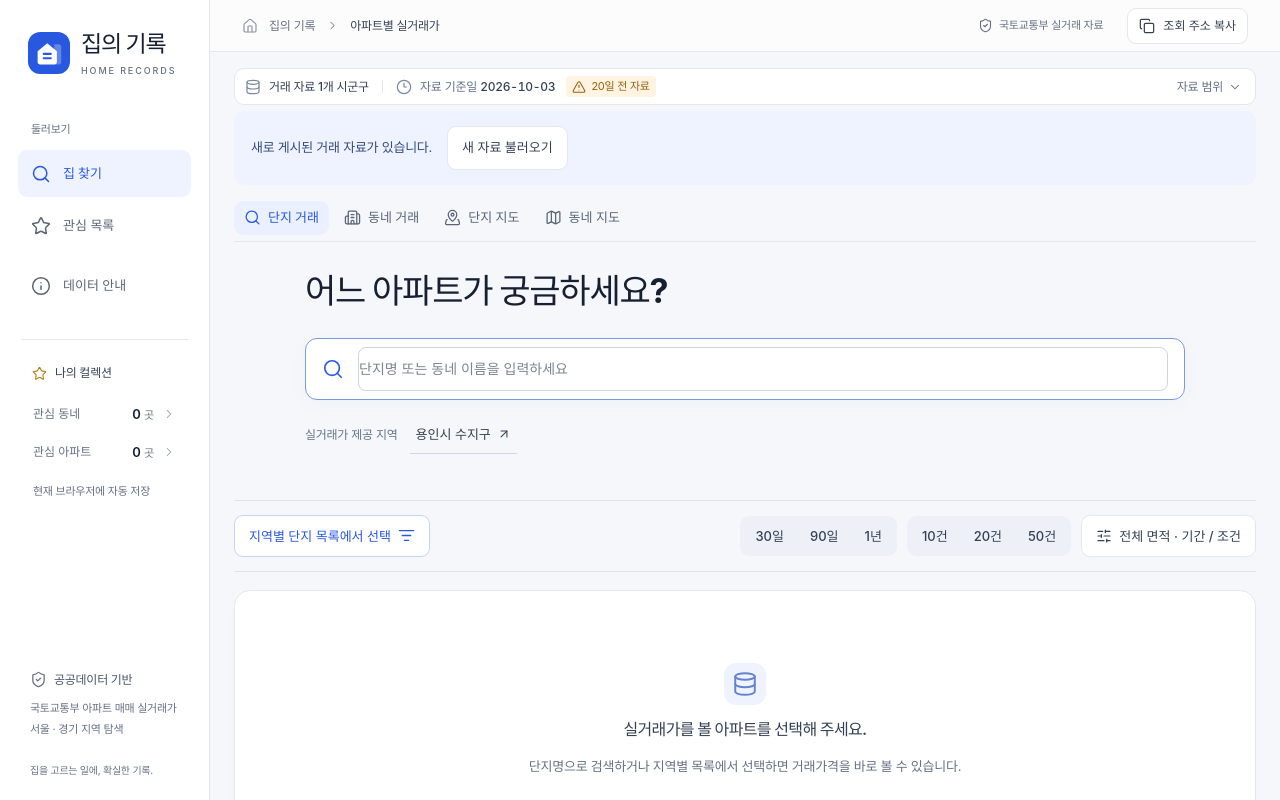
Test: offers newly published data without automatically replacing the current query
Expected: the text "2026-10-03" is shown, [480,79,555,94]
Expected: the text "2026-10-04" is not shown
Click the button "새 자료 불러오기" at {"x": 507, "y": 148}, box [447,126,568,170]
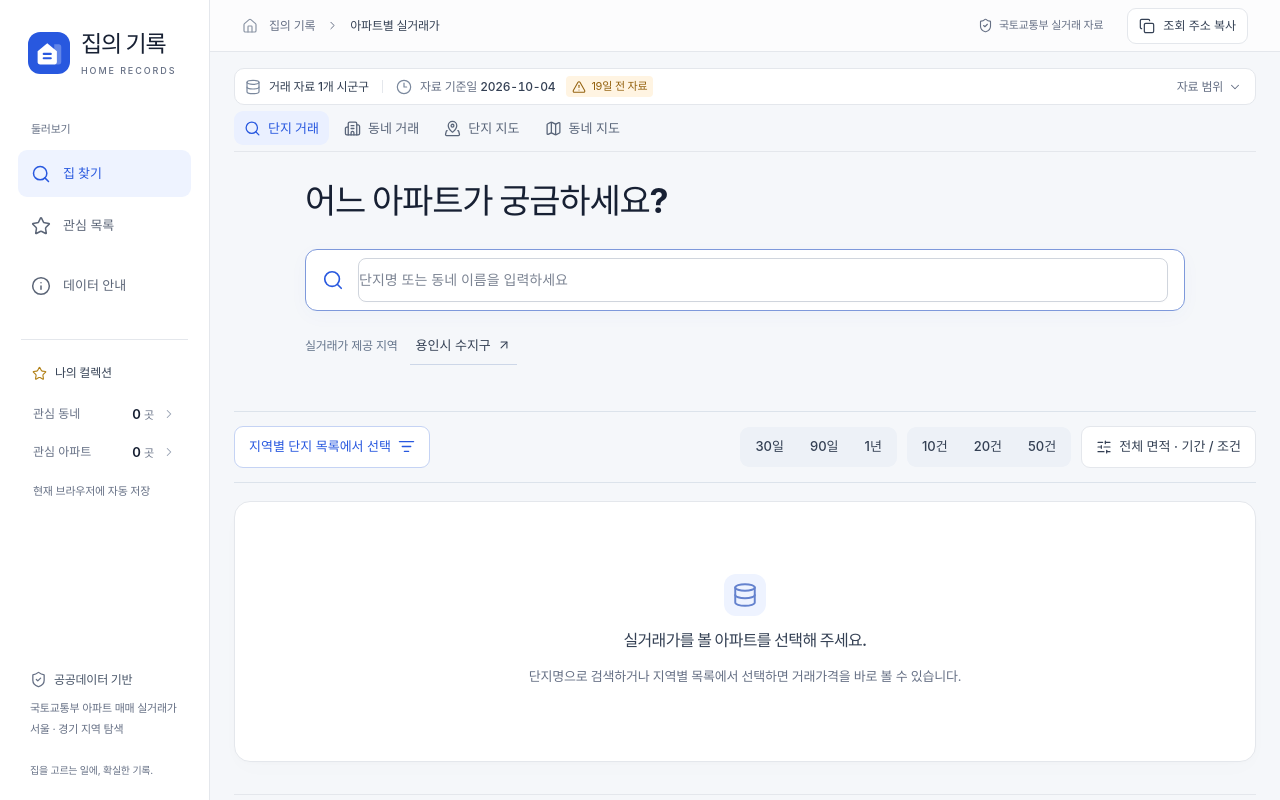
Expected: the text "2026-10-04" is shown, [480,79,555,94]
